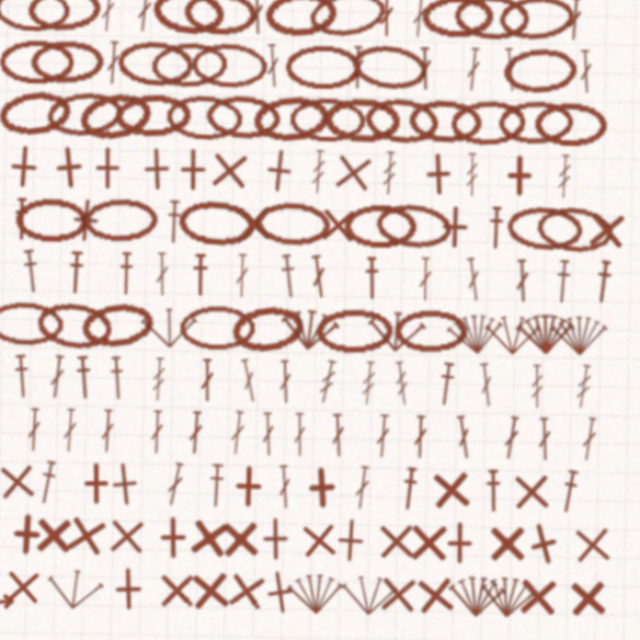chain: (90, 125, 163, 177), (299, 29, 373, 80), (17, 126, 89, 175), (96, 318, 168, 367), (233, 318, 305, 367), (56, 319, 128, 367), (62, 127, 135, 174), (339, 79, 411, 126), (250, 127, 322, 174), (364, 224, 437, 270), (511, 224, 584, 270), (156, 31, 227, 78), (473, 32, 544, 78), (157, 81, 229, 125), (184, 225, 256, 269), (484, 225, 556, 269), (259, 32, 329, 77), (352, 128, 422, 173), (478, 80, 547, 125), (126, 81, 198, 124), (43, 33, 113, 77), (431, 129, 501, 173), (125, 129, 195, 172), (208, 129, 278, 172), (98, 225, 168, 268), (13, 34, 84, 76), (194, 82, 265, 124), (312, 322, 383, 364), (433, 33, 502, 76), (475, 129, 544, 172), (172, 130, 242, 172), (186, 34, 255, 76), (47, 82, 116, 124), (393, 130, 462, 172), (255, 226, 324, 268), (316, 130, 386, 171), (12, 322, 82, 363), (188, 322, 258, 363), (403, 34, 471, 76), (280, 83, 350, 123), (285, 131, 355, 171), (384, 322, 452, 363), (19, 83, 87, 123), (508, 131, 576, 171), (36, 227, 104, 267), (336, 227, 404, 267)
double: (242, 370, 263, 411), (177, 466, 197, 507), (305, 274, 324, 315), (446, 274, 465, 315), (440, 418, 459, 459), (460, 370, 478, 411), (484, 418, 502, 459), (555, 418, 573, 459), (69, 370, 86, 411), (349, 466, 366, 507), (143, 34, 159, 75), (478, 82, 494, 123), (235, 418, 251, 459), (394, 35, 410, 75), (261, 83, 277, 123), (444, 83, 460, 123), (279, 467, 295, 507), (110, 35, 125, 75), (536, 35, 551, 75), (547, 83, 562, 123), (164, 275, 179, 315), (493, 275, 508, 315), (278, 371, 293, 411), (197, 419, 212, 459), (327, 419, 342, 459), (368, 419, 383, 459), (247, 35, 261, 75), (365, 35, 379, 75), (116, 83, 130, 123), (401, 83, 415, 123), (50, 419, 64, 459), (83, 419, 97, 459), (117, 419, 131, 459), (264, 419, 278, 459), (516, 419, 530, 459), (340, 83, 353, 123), (238, 275, 251, 315), (405, 275, 418, 315), (208, 371, 221, 411), (163, 419, 176, 459), (293, 419, 306, 459), (403, 419, 416, 459)
fan: (430, 320, 487, 366), (69, 560, 126, 605), (279, 320, 335, 365), (465, 561, 521, 605), (359, 321, 414, 364), (289, 562, 344, 604), (339, 562, 393, 604), (437, 562, 491, 604), (152, 322, 206, 363), (495, 322, 549, 363), (526, 322, 580, 363), (466, 323, 519, 363)
half_double: (60, 466, 81, 508), (536, 466, 557, 507), (42, 274, 62, 315), (277, 274, 297, 315), (565, 274, 584, 315), (92, 370, 111, 411), (423, 370, 442, 411), (36, 370, 54, 411), (123, 370, 141, 411), (392, 466, 410, 507), (84, 275, 101, 315), (529, 275, 546, 315), (216, 467, 233, 507), (198, 275, 214, 315), (355, 275, 371, 315), (469, 467, 485, 507), (35, 227, 50, 267), (174, 227, 189, 267), (468, 227, 483, 267), (131, 275, 146, 315)
noise: (6, 588, 44, 605)
single: (499, 510, 548, 559), (83, 511, 130, 558), (261, 560, 307, 606), (196, 512, 241, 557), (231, 560, 276, 605), (63, 177, 107, 221), (322, 177, 366, 221), (119, 465, 163, 509), (297, 513, 341, 557), (404, 561, 448, 605), (255, 177, 298, 220), (21, 465, 64, 508), (417, 465, 460, 508), (547, 513, 590, 556), (199, 561, 242, 604), (22, 178, 64, 220), (144, 178, 186, 220), (210, 178, 252, 220), (401, 178, 443, 220), (80, 226, 122, 268), (233, 226, 275, 268), (310, 226, 352, 268), (555, 226, 597, 268), (300, 466, 342, 508), (491, 466, 533, 508), (226, 514, 268, 556), (371, 562, 413, 604), (544, 562, 586, 604), (32, 514, 73, 555), (56, 514, 97, 555), (123, 514, 164, 555), (259, 514, 300, 555), (327, 514, 368, 555), (369, 514, 410, 555), (470, 514, 511, 555), (29, 562, 70, 603), (125, 562, 166, 603), (499, 562, 540, 603), (100, 179, 140, 219), (178, 179, 218, 219), (476, 179, 516, 219), (418, 227, 458, 267), (95, 467, 135, 507), (234, 467, 274, 507), (166, 515, 206, 555), (399, 515, 439, 555), (427, 515, 467, 555), (170, 563, 210, 603)
treble: (314, 370, 334, 411), (383, 370, 401, 411), (549, 370, 567, 411), (305, 179, 320, 219), (354, 371, 369, 411), (370, 179, 384, 219), (530, 179, 544, 219), (163, 371, 177, 411), (446, 179, 459, 219), (509, 371, 522, 411)
